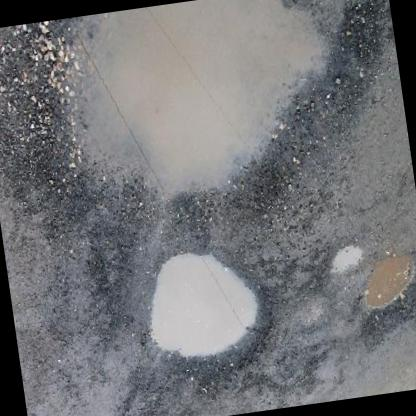pothole: (32, 0, 394, 251), (130, 240, 276, 388), (349, 248, 416, 337), (326, 241, 367, 282)
